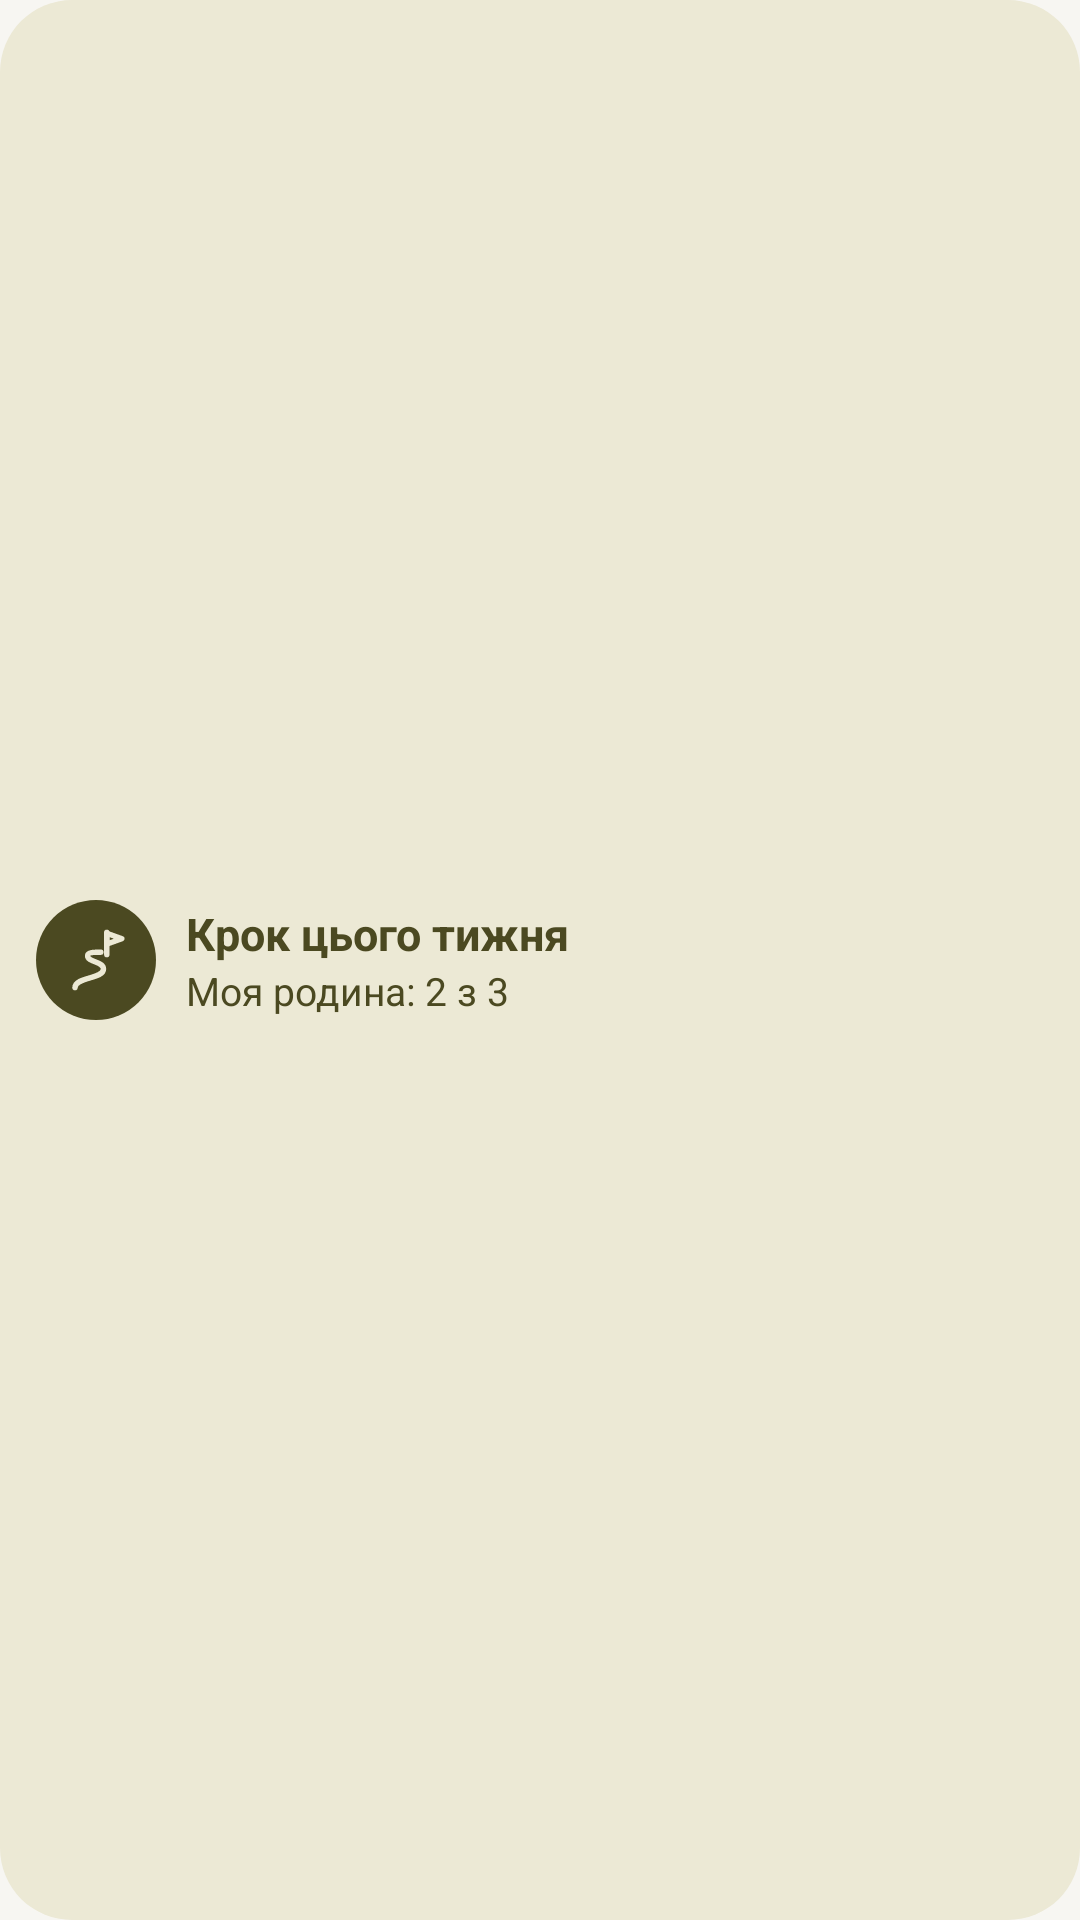

Where to tap for icons on this 1080px x 1920px app screen, as point (x, y):
way: point (96, 960)
